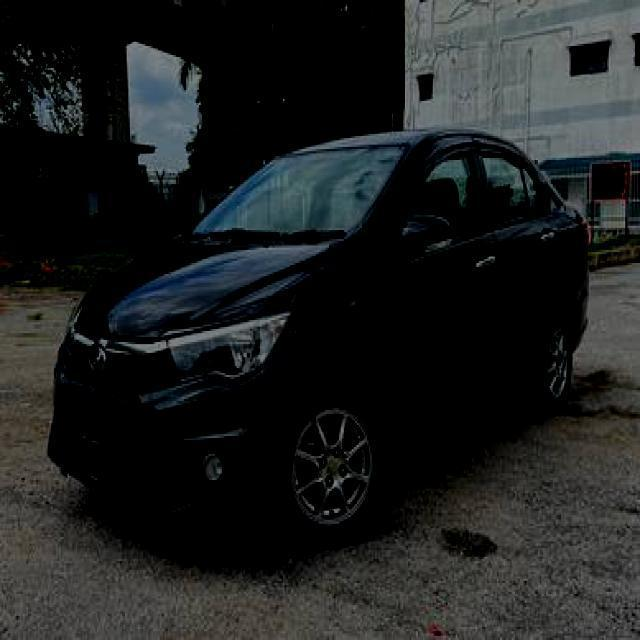PeroduaBezza: (46, 125, 592, 545)
